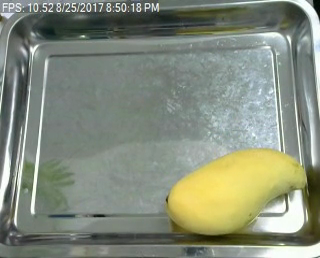Mango: (163, 138, 310, 236)
